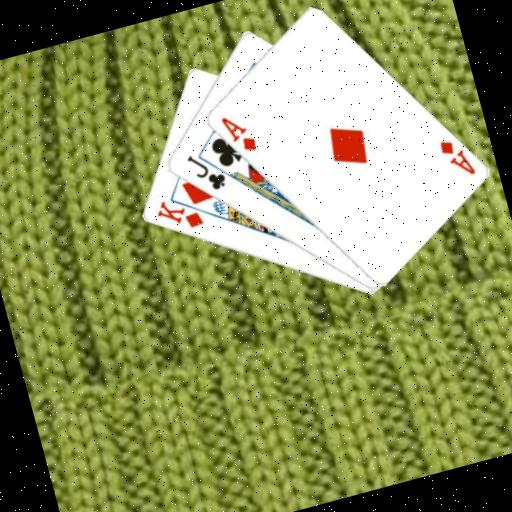AD: (433, 131, 477, 183), (216, 107, 259, 159)
JC: (182, 144, 229, 197)
KD: (149, 188, 206, 238)
